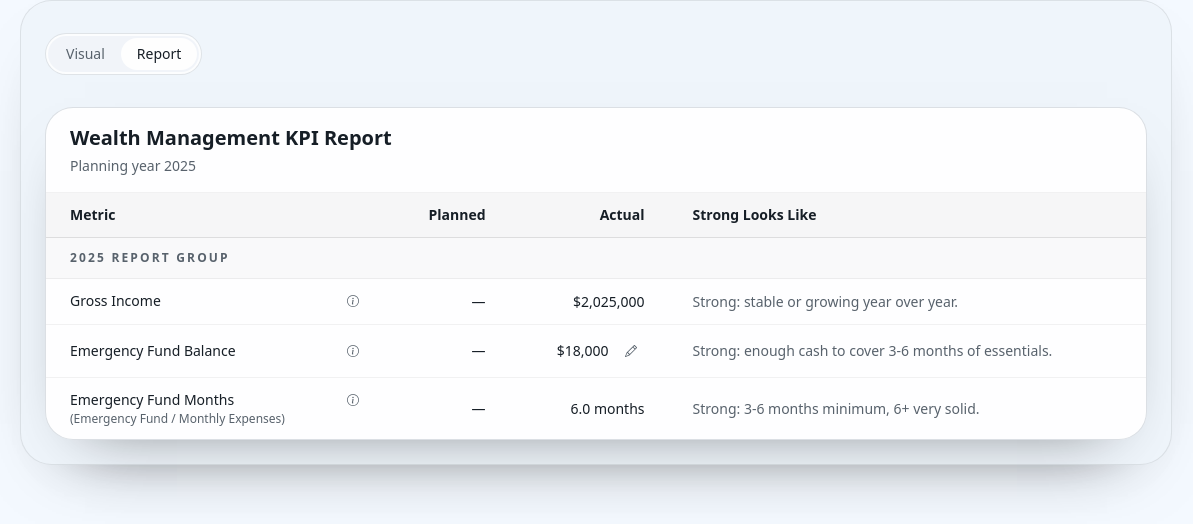
Test: DashboardInfographic › toggles between visual and report modes and keeps the selected year in sync
Expected: the heading "Wealth Management KPI Report" is shown, [70, 124, 392, 151]
Expected: the column heading "2025 Report Group" is shown, [46, 238, 1146, 278]
Click the button named "Edit emergency fund balance" at [630, 351], box [616, 337, 644, 365]
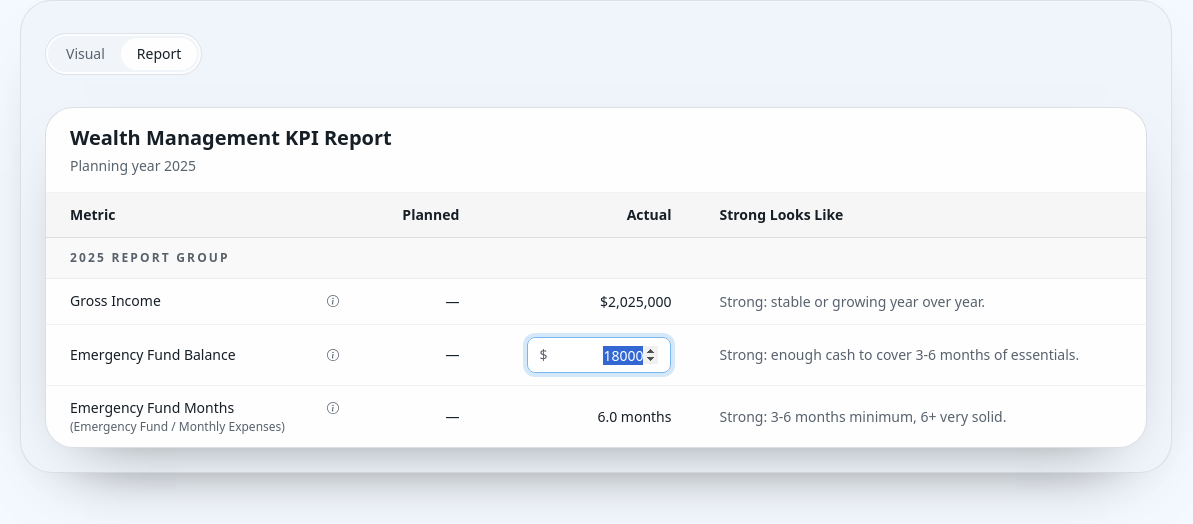
Now the number field showing "18000" is shown
Replace the text in the number field named "Emergency fund balance" with "9000" at [600, 355], box [528, 337, 672, 373]
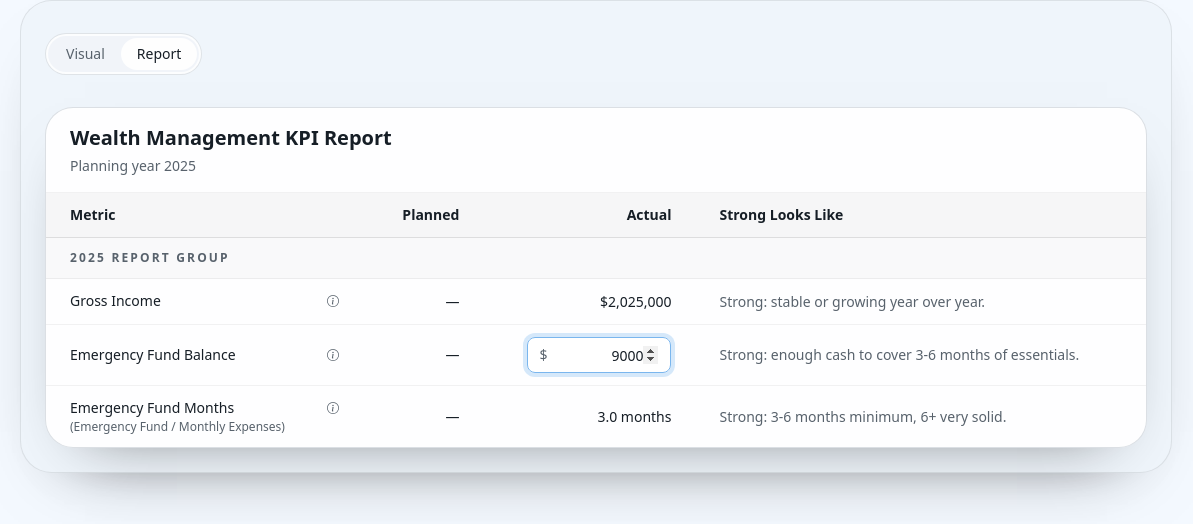
Leave the number field named "Emergency fund balance", box [528, 337, 672, 373]
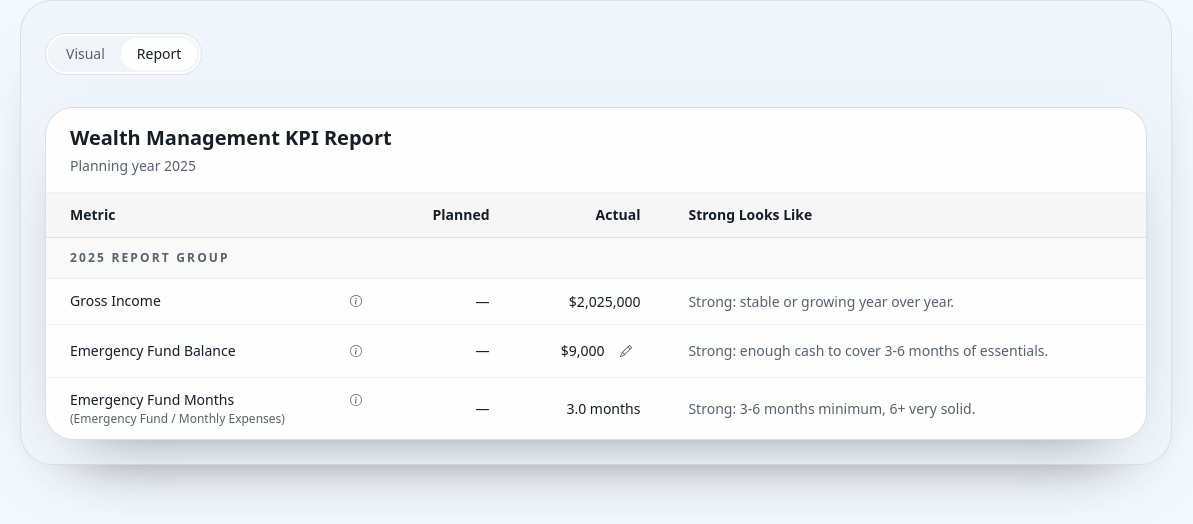
Now the text "3.0 months" is shown, box [514, 378, 664, 439]
Now the text "$9,000" is shown, box [561, 341, 604, 361]
